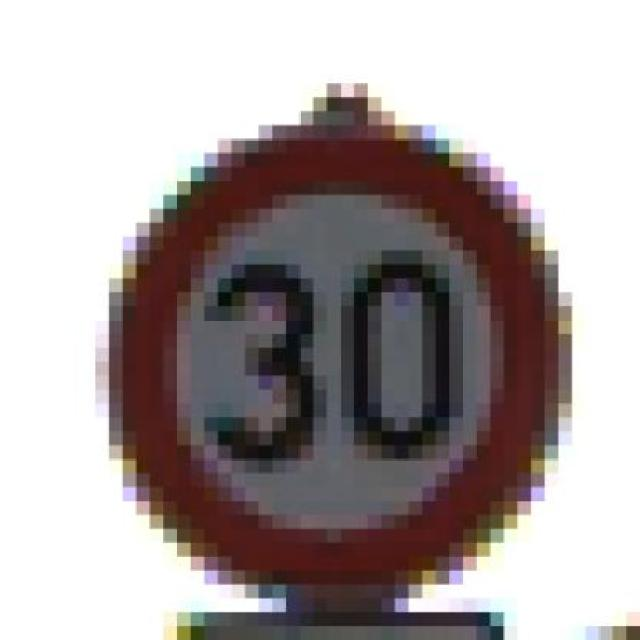Speed Limit 30 KMPh: (82, 70, 612, 612)
